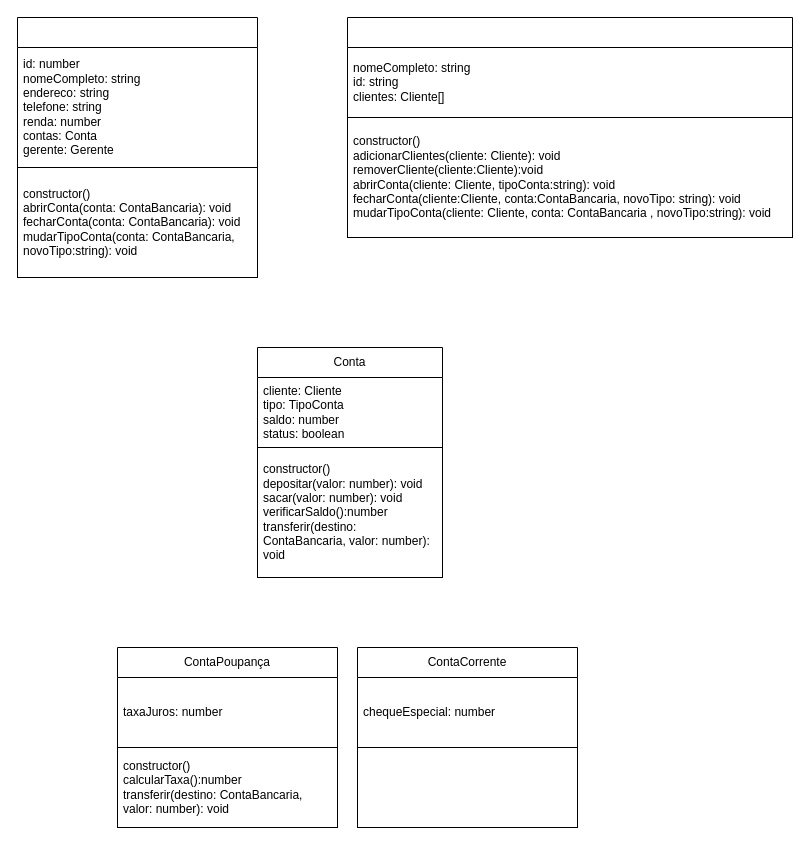
Image size: 810x845. Some labels were removed from this diagram. Each missing label, with the box of its shape:
Cliente: (16, 16, 258, 278)
constructor(): (356, 746, 578, 828)
Gerente: (346, 16, 792, 238)
